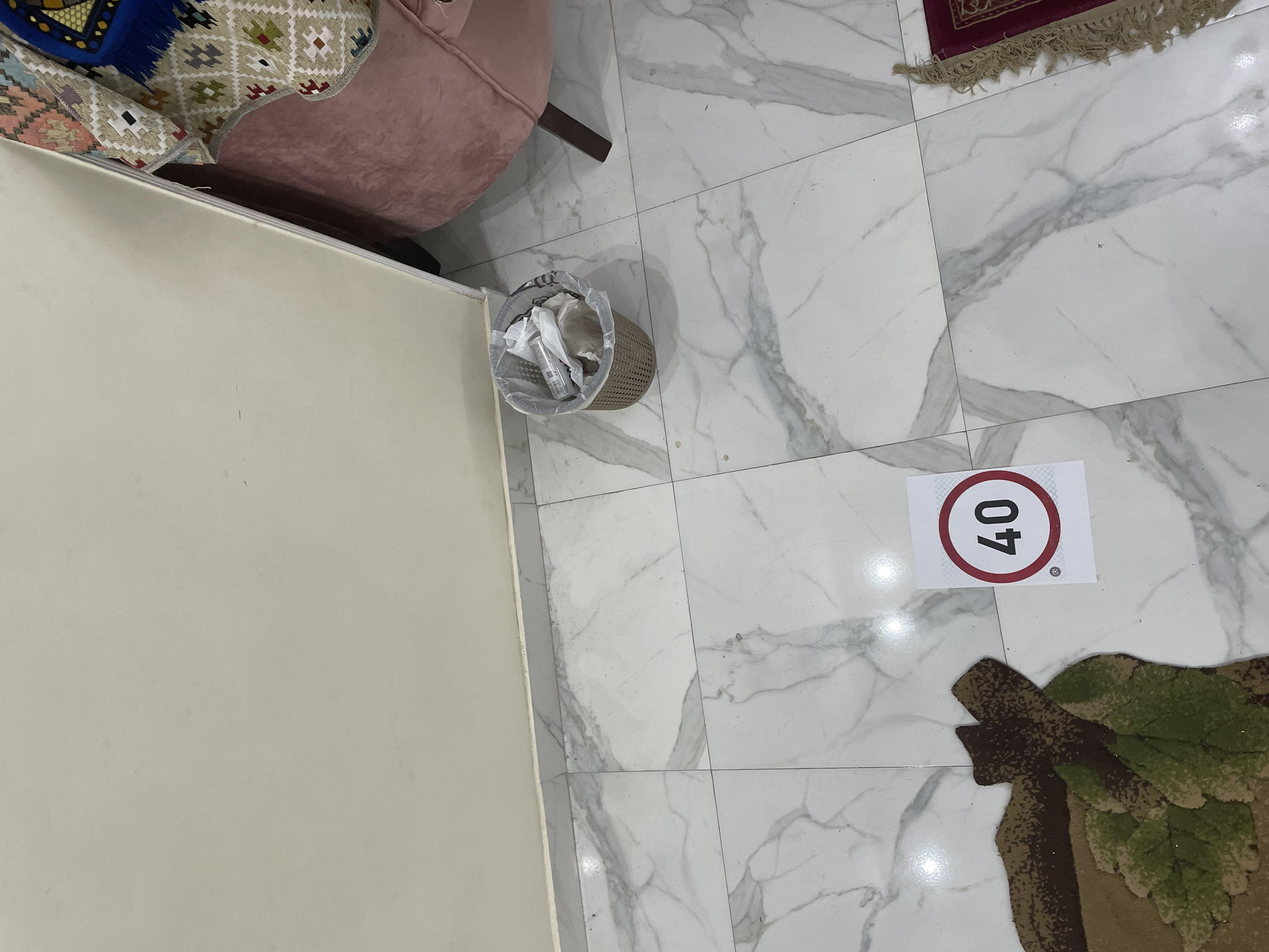40-Speed: (488, 701, 658, 798)
